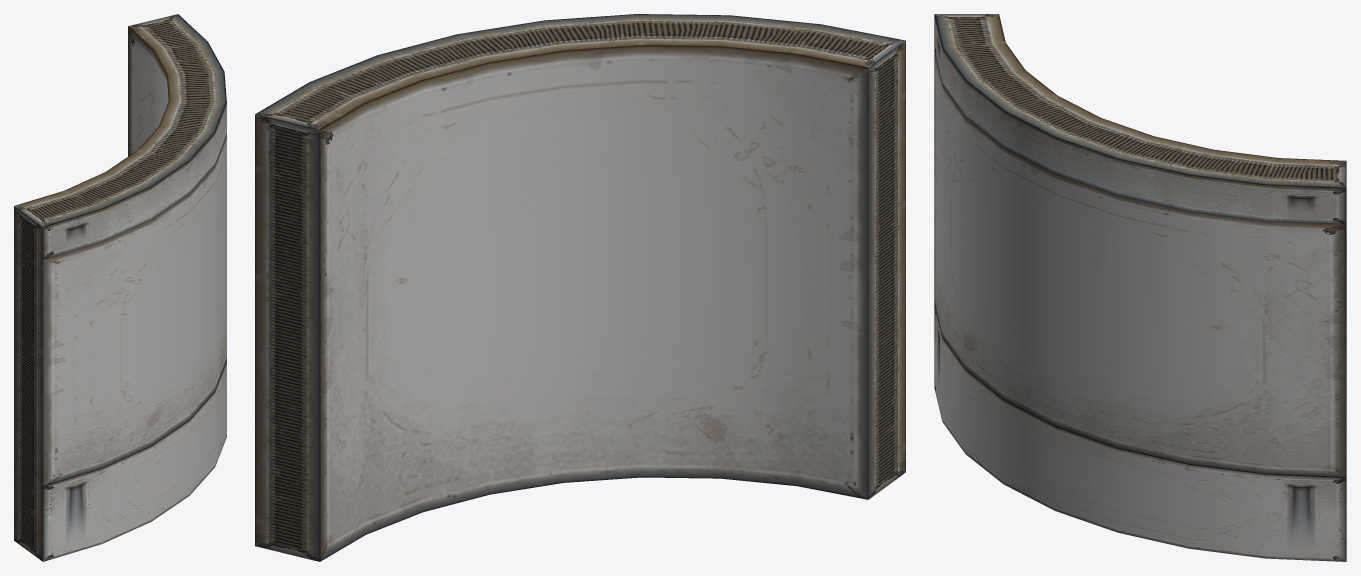
File: scifi_wall_curve1_6.FBX
3 views of the same model, side by side, from view 1: azimuth 30°, elevation 25°; view 2: azimuth 150°, elevation 25°; view 3: azimuth 270°, elevation 25° (orthographic). The views are drawn at different scales.
Visible parts, largest first — view 1: Plane100; view 2: Plane100; view 3: Plane100.
Boxes of the visible parts, bbox=[...] form: Plane100: bbox=[14, 14, 226, 561]; Plane100: bbox=[255, 14, 905, 561]; Plane100: bbox=[934, 14, 1346, 561].
Size of the model in its own units: 254 by 254 by 254.
